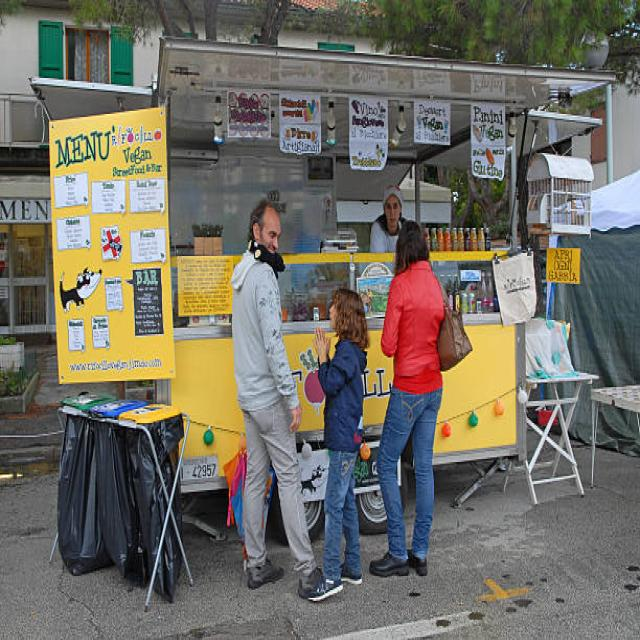Emperan: (16, 28, 640, 601)
